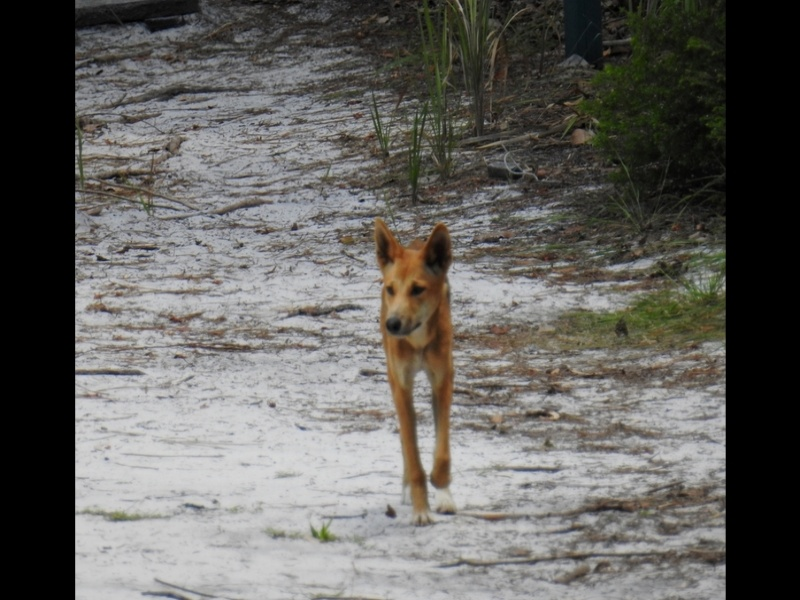dog: (367, 216, 474, 533)
